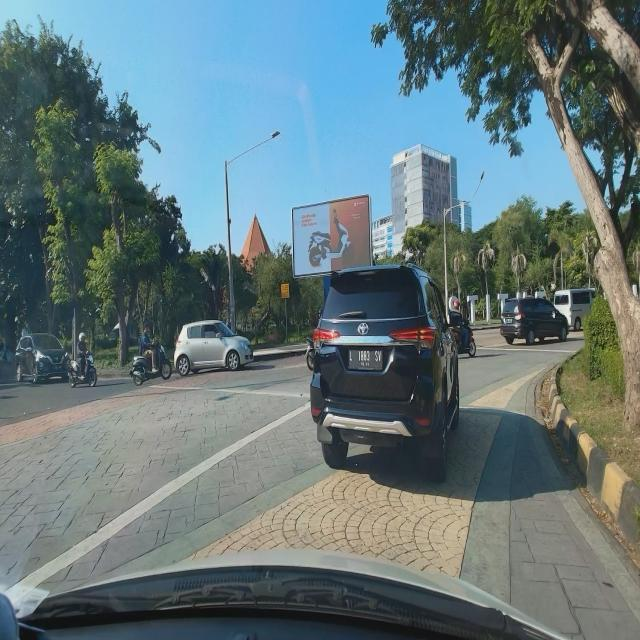car: (499, 295, 570, 347)
license-plate: (309, 263, 460, 484), (348, 348, 383, 370), (506, 318, 512, 324)
